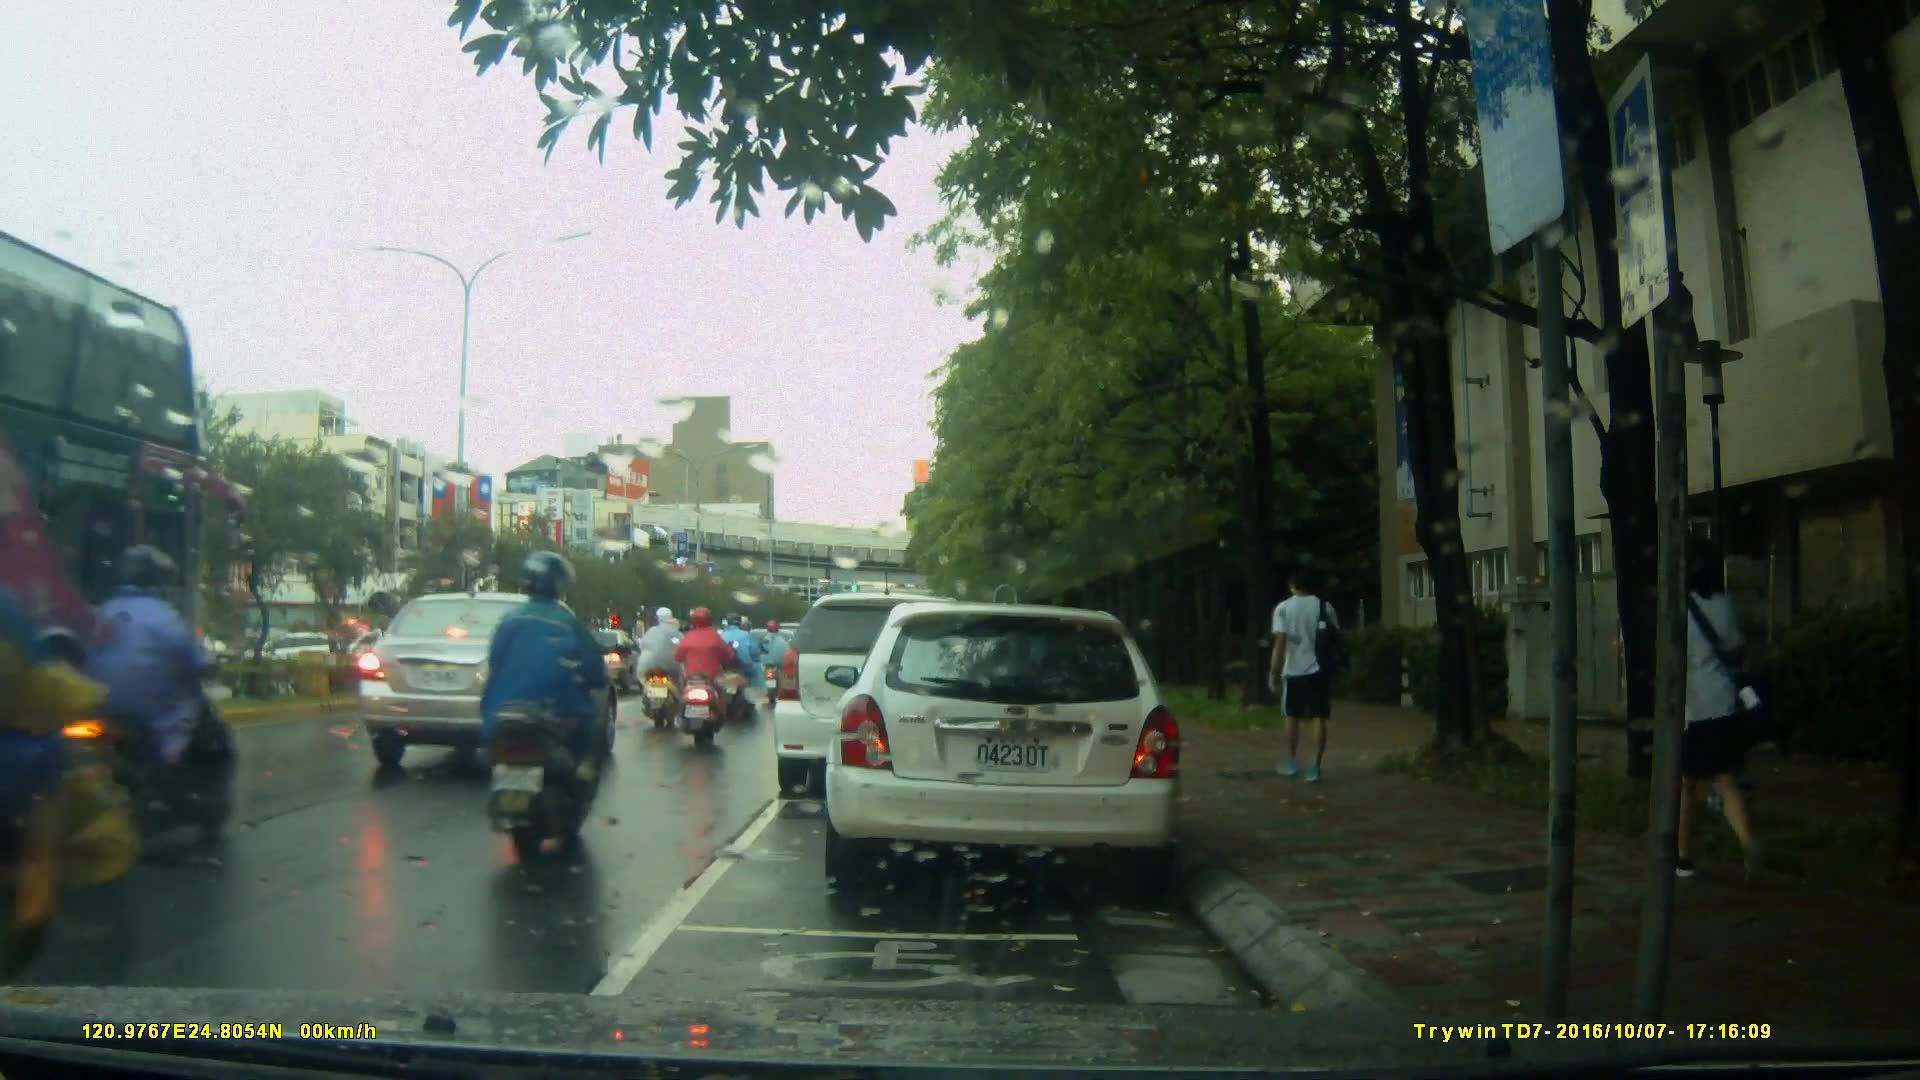pedestrian: (52, 550, 233, 862), (1636, 529, 1756, 895), (1265, 556, 1364, 804)
rider: (478, 551, 610, 867), (670, 605, 736, 752), (633, 603, 688, 735), (715, 612, 764, 714), (756, 617, 792, 710)
vehicle: (10, 215, 244, 903), (822, 604, 1188, 882), (357, 589, 627, 773), (774, 595, 995, 802)
